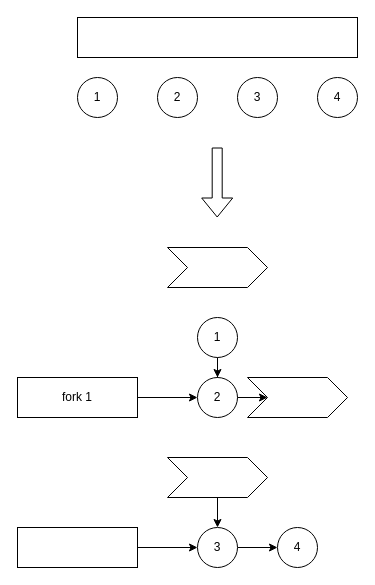
The diagram is 375 pixels wide and 585 high, and some of its shapes have lost their labels. The shapes that lost their labels are listed below. From the top down, each one's centre as x and y in pixels, then its label:
At pixel 217 37: "Input".
At pixel 217 267: "pipe()".
At pixel 297 397: "pipe [1]".
At pixel 217 477: "pipe [0]".
At pixel 77 547: "fork 2".
